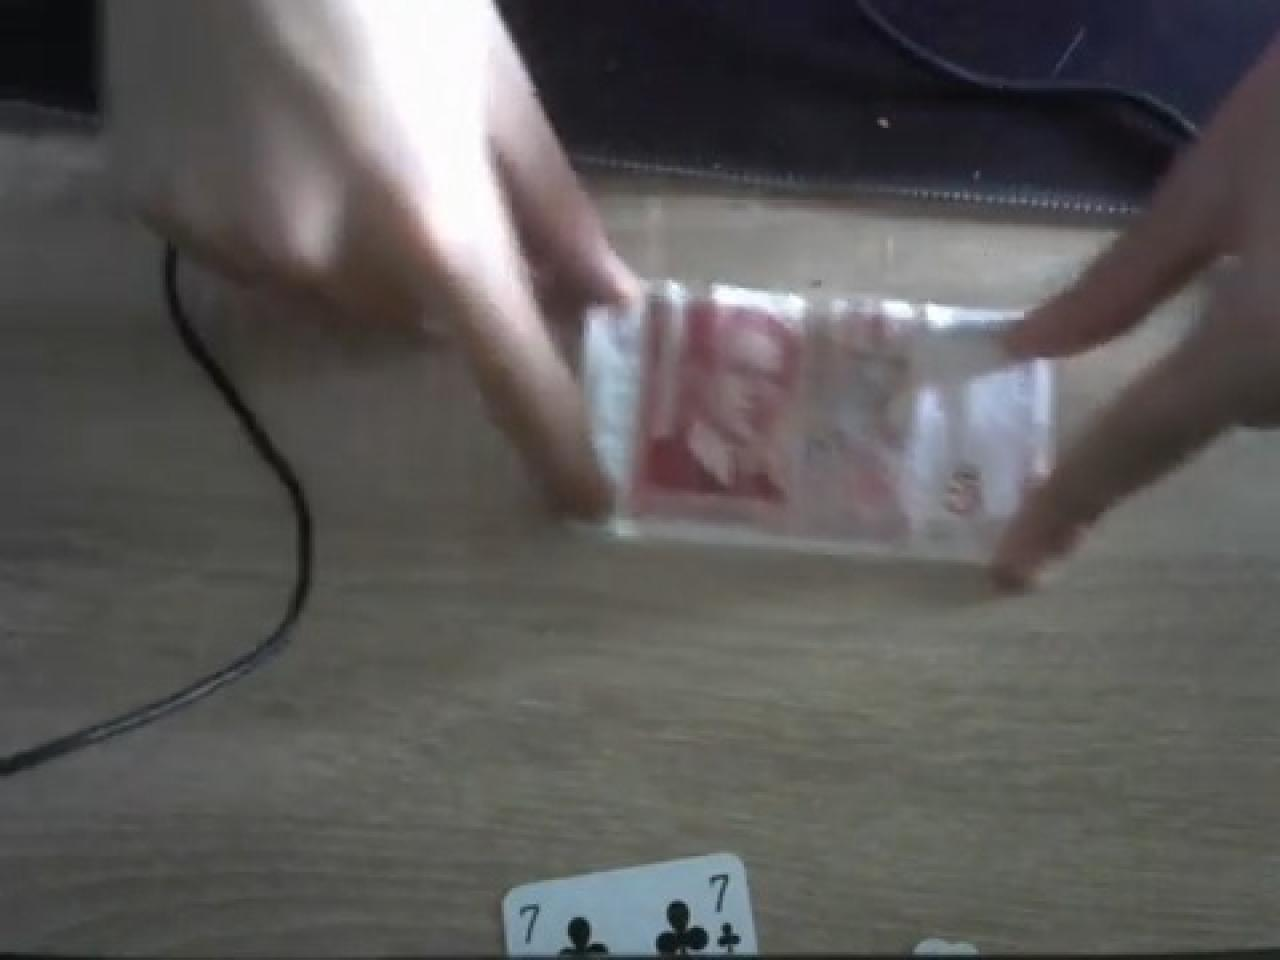5leva: (590, 280, 1053, 563), (592, 280, 1056, 558)
